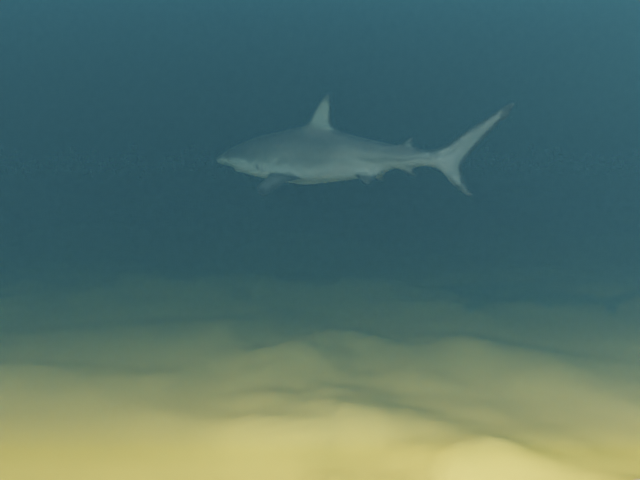Carribean Shark.001: (216, 93, 515, 196)
